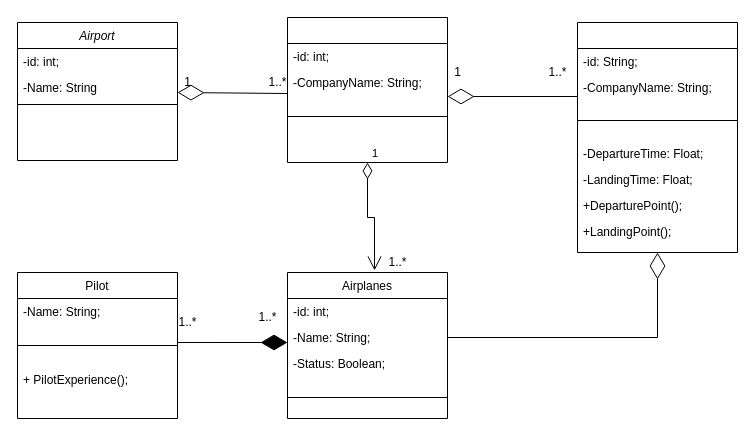
Some shapes in this 755 by 436 pixel diagram are drawn without their labels. Here are the shapes that lost their labels. From the top down, the box of each, then its label:
(286, 16, 448, 162): Companies
(576, 22, 738, 252): Flights
